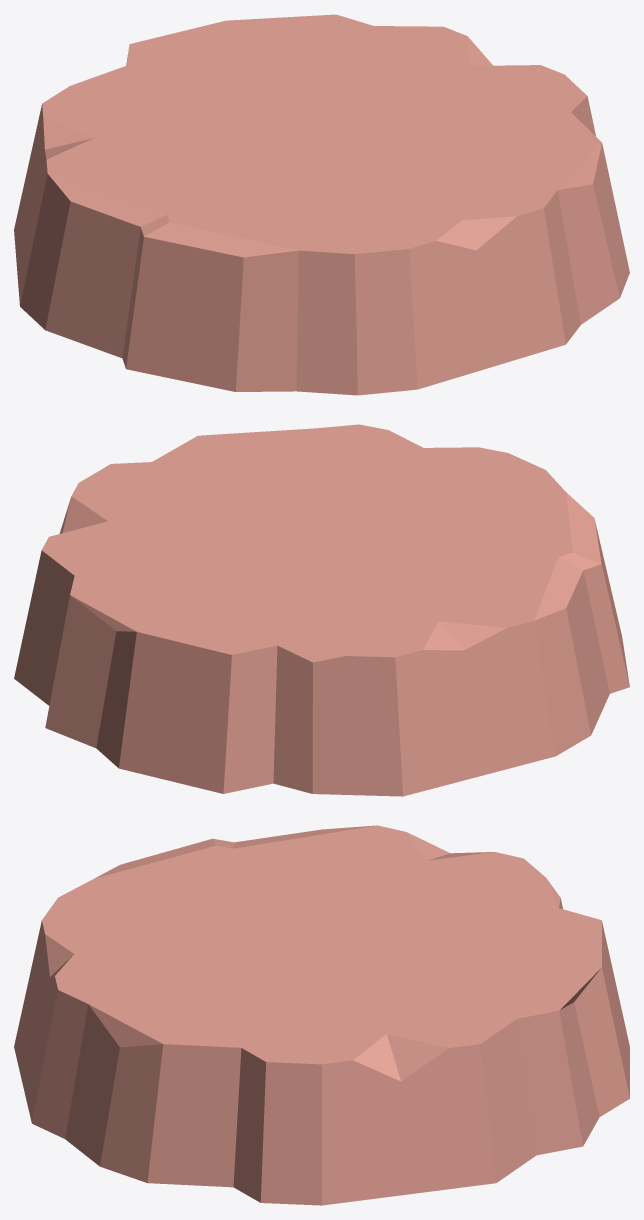
The model's file is Cylinder_003_Vlad.fbx.
3 views of the same model, one above another, from view 1: azimuth 30°, elevation 25°; view 2: azimuth 150°, elevation 25°; view 3: azimuth 270°, elevation 25° (orthographic).
Parts seen in each view (by area): view 1: Cylinder.003; view 2: Cylinder.003; view 3: Cylinder.003.
Boxes of the visible parts, bbox=[...] form: Cylinder.003: bbox=[14, 14, 629, 395]; Cylinder.003: bbox=[14, 424, 629, 796]; Cylinder.003: bbox=[14, 825, 629, 1205].
Bounding box in the file's own units: 440 × 100 × 432.
